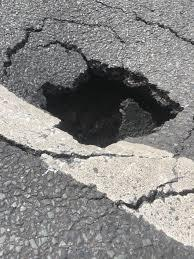crack: (0, 13, 121, 59), (3, 134, 153, 163), (93, 0, 194, 42), (94, 178, 194, 214)
pothole: (36, 53, 178, 153)
